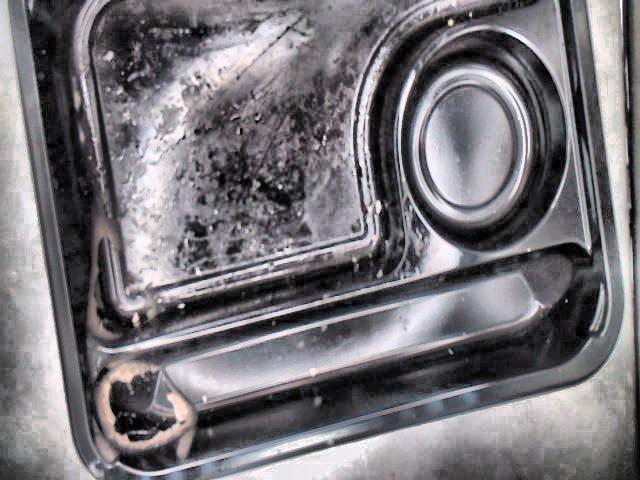Plastic: (8, 0, 623, 480)
